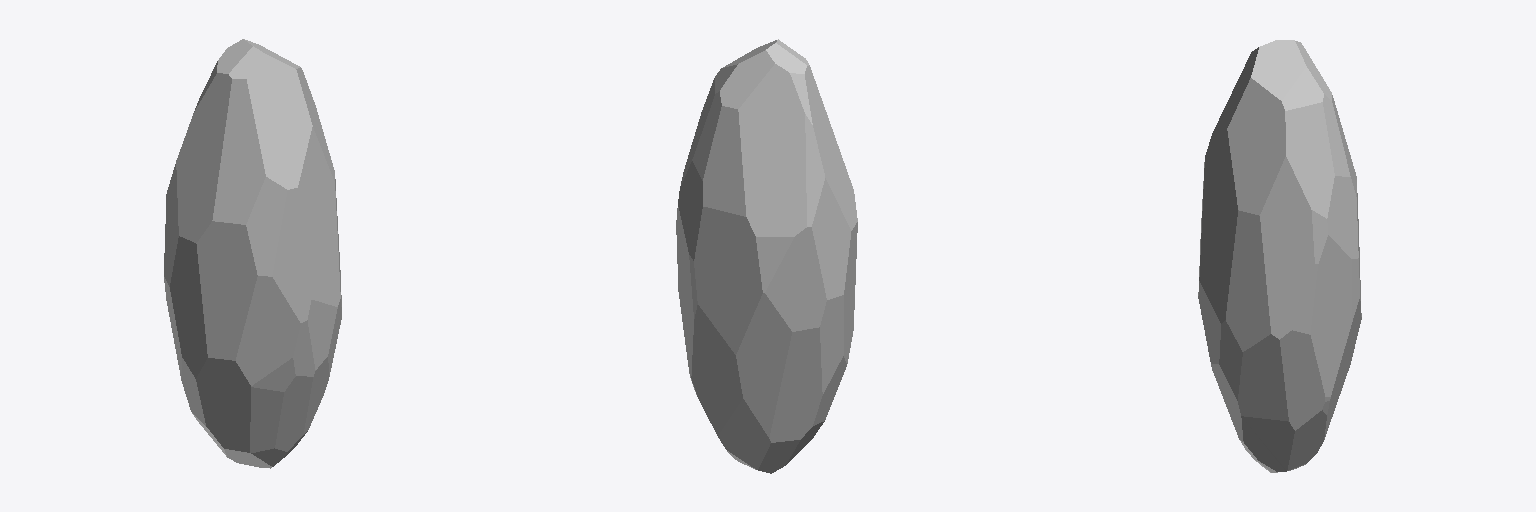
The model's file is heiRock4.obj.
3 views of the same model, side by side, from view 1: azimuth 30°, elevation 25°; view 2: azimuth 150°, elevation 25°; view 3: azimuth 270°, elevation 25° (orthographic).
Parts seen in each view (by area): view 1: Sphere; view 2: Sphere; view 3: Sphere.
Part boxes in pixels (x1,y1,x2,y2): Sphere: (164, 39, 341, 468); Sphere: (676, 39, 857, 473); Sphere: (1198, 40, 1361, 472).
Size of the model in its own units: 78.46 by 197 by 68.43.